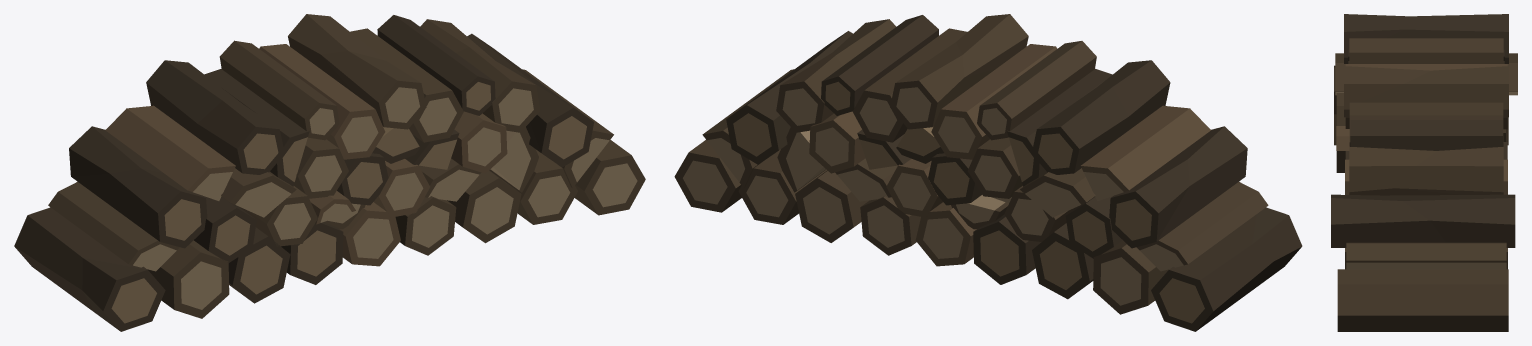
Rendered from prop_wood_pile.gltf.
The picture shows the model from 3 angles, left to right: view 1: azimuth 30°, elevation 25°; view 2: azimuth 150°, elevation 25°; view 3: azimuth 270°, elevation 25°; orthographic projection. The views are drawn at different scales.
Parts seen in each view (by area): view 1: prop_wood_pile; view 2: prop_wood_pile; view 3: prop_wood_pile.
Boxes of the visible parts, x1,y1,x2,y2 form: prop_wood_pile: [14, 14, 645, 331]; prop_wood_pile: [674, 14, 1302, 331]; prop_wood_pile: [1331, 14, 1517, 331].
Size of the model in its own units: 2.09 by 0.6897 by 0.6934.
Materials: 1 (1 with a texture image).
